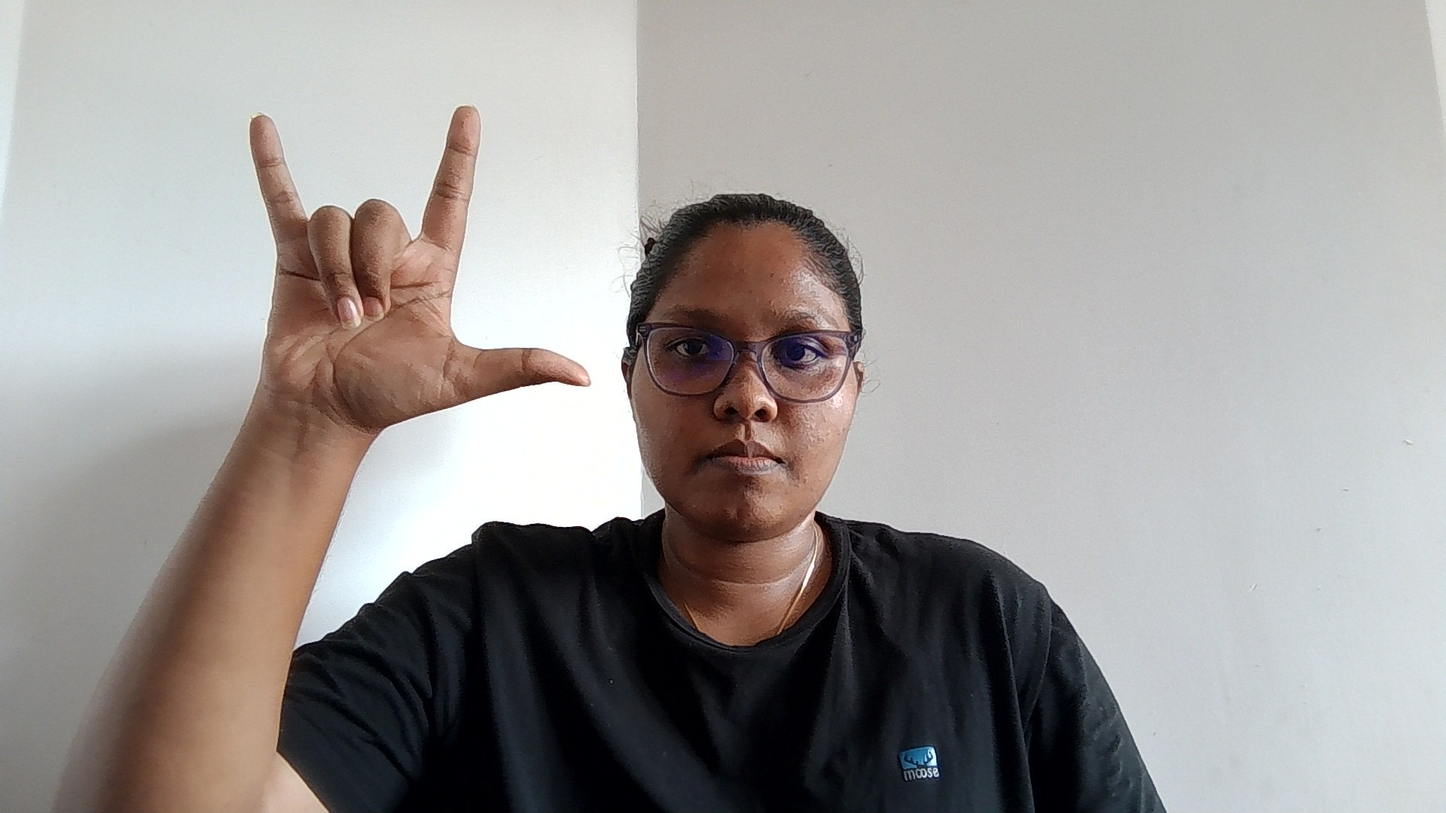I Love You: (224, 83, 588, 470)
